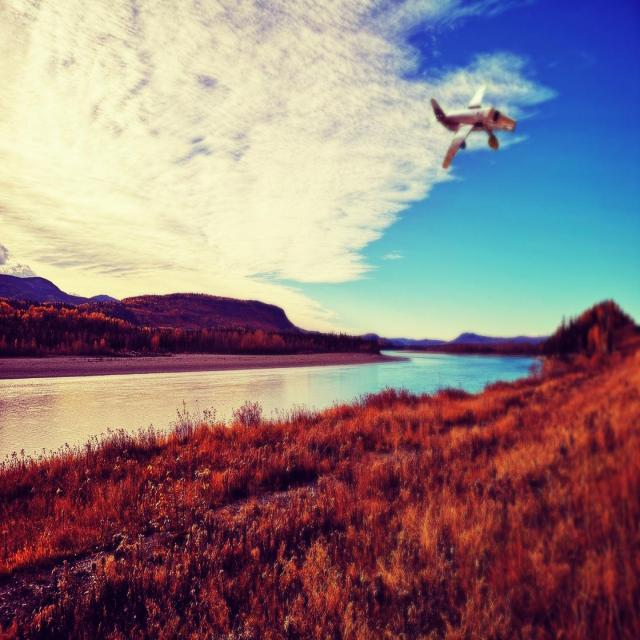airplane: (430, 84, 516, 169)
